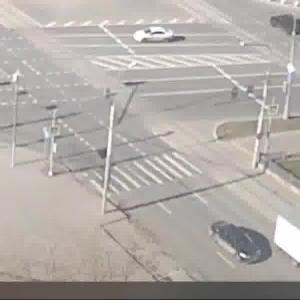car: (197, 212, 268, 270), (129, 25, 178, 47)
